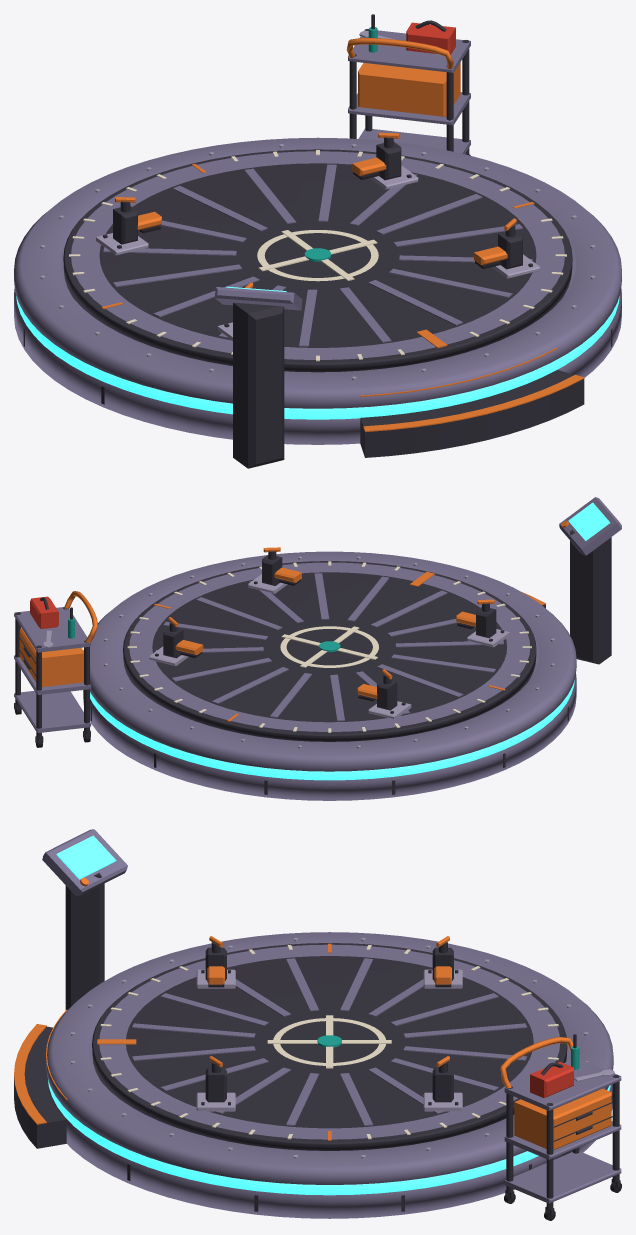
Rendered from test_stand.glb.
3 views of the same model, one above another, from view 1: azimuth 30°, elevation 25°; view 2: azimuth 150°, elevation 25°; view 3: azimuth 270°, elevation 25° (orthographic). The views are drawn at different scales.
Visible parts, largest first — view 1: turntable_graphite, base_purpleGrey, turntable_purpleGrey, base_graphite, base_orange, base_emissive, turntable_creamHull, turntable_orange, turntable_purpleGreyLight, base_red, base_purpleGreyLight; view 2: base_purpleGrey, turntable_graphite, turntable_purpleGrey, base_graphite, base_emissive, base_orange, turntable_creamHull, turntable_orange, turntable_purpleGreyLight, base_red, base_purpleGreyLight; view 3: turntable_graphite, base_purpleGrey, turntable_purpleGrey, base_graphite, base_emissive, base_orange, turntable_creamHull, turntable_purpleGreyLight, turntable_orange, base_red, base_purpleGreyLight.
Boxes of the visible parts, x1,y1,x2,y2 form: turntable_graphite: (63,137,572,372); base_purpleGrey: (14,29,621,444); turntable_purpleGrey: (71,151,564,359); base_graphite: (23,14,612,468); base_orange: (346,38,584,432); base_emissive: (16,286,619,419); turntable_creamHull: (69,150,566,361); turntable_orange: (101,132,534,348); turntable_purpleGreyLight: (96,165,539,340); base_red: (406,22,455,54); base_purpleGreyLight: (40,30,595,380); base_purpleGrey: (14,497,621,800); turntable_graphite: (123,551,536,741); turntable_purpleGrey: (129,562,530,731); base_graphite: (14,530,611,794); base_emissive: (90,502,610,780); base_orange: (19,520,568,687); turntable_creamHull: (127,561,531,732); turntable_orange: (154,547,505,721); turntable_purpleGreyLight: (149,574,509,719); base_red: (30,596,58,628); base_purpleGreyLight: (42,556,555,748); turntable_graphite: (92,942,567,1150); base_purpleGrey: (42,829,621,1218); turntable_purpleGrey: (99,944,559,1139); base_graphite: (14,873,620,1215); base_emissive: (48,835,610,1195); base_orange: (14,878,611,1150); turntable_creamHull: (100,945,558,1139); turntable_purpleGreyLight: (196,969,462,1111); turntable_orange: (97,936,561,1140); base_red: (530,1062,573,1097); base_purpleGreyLight: (71,938,614,1158).
Bounding box in the file's own units: 3.25 × 1.04 × 3.43.
